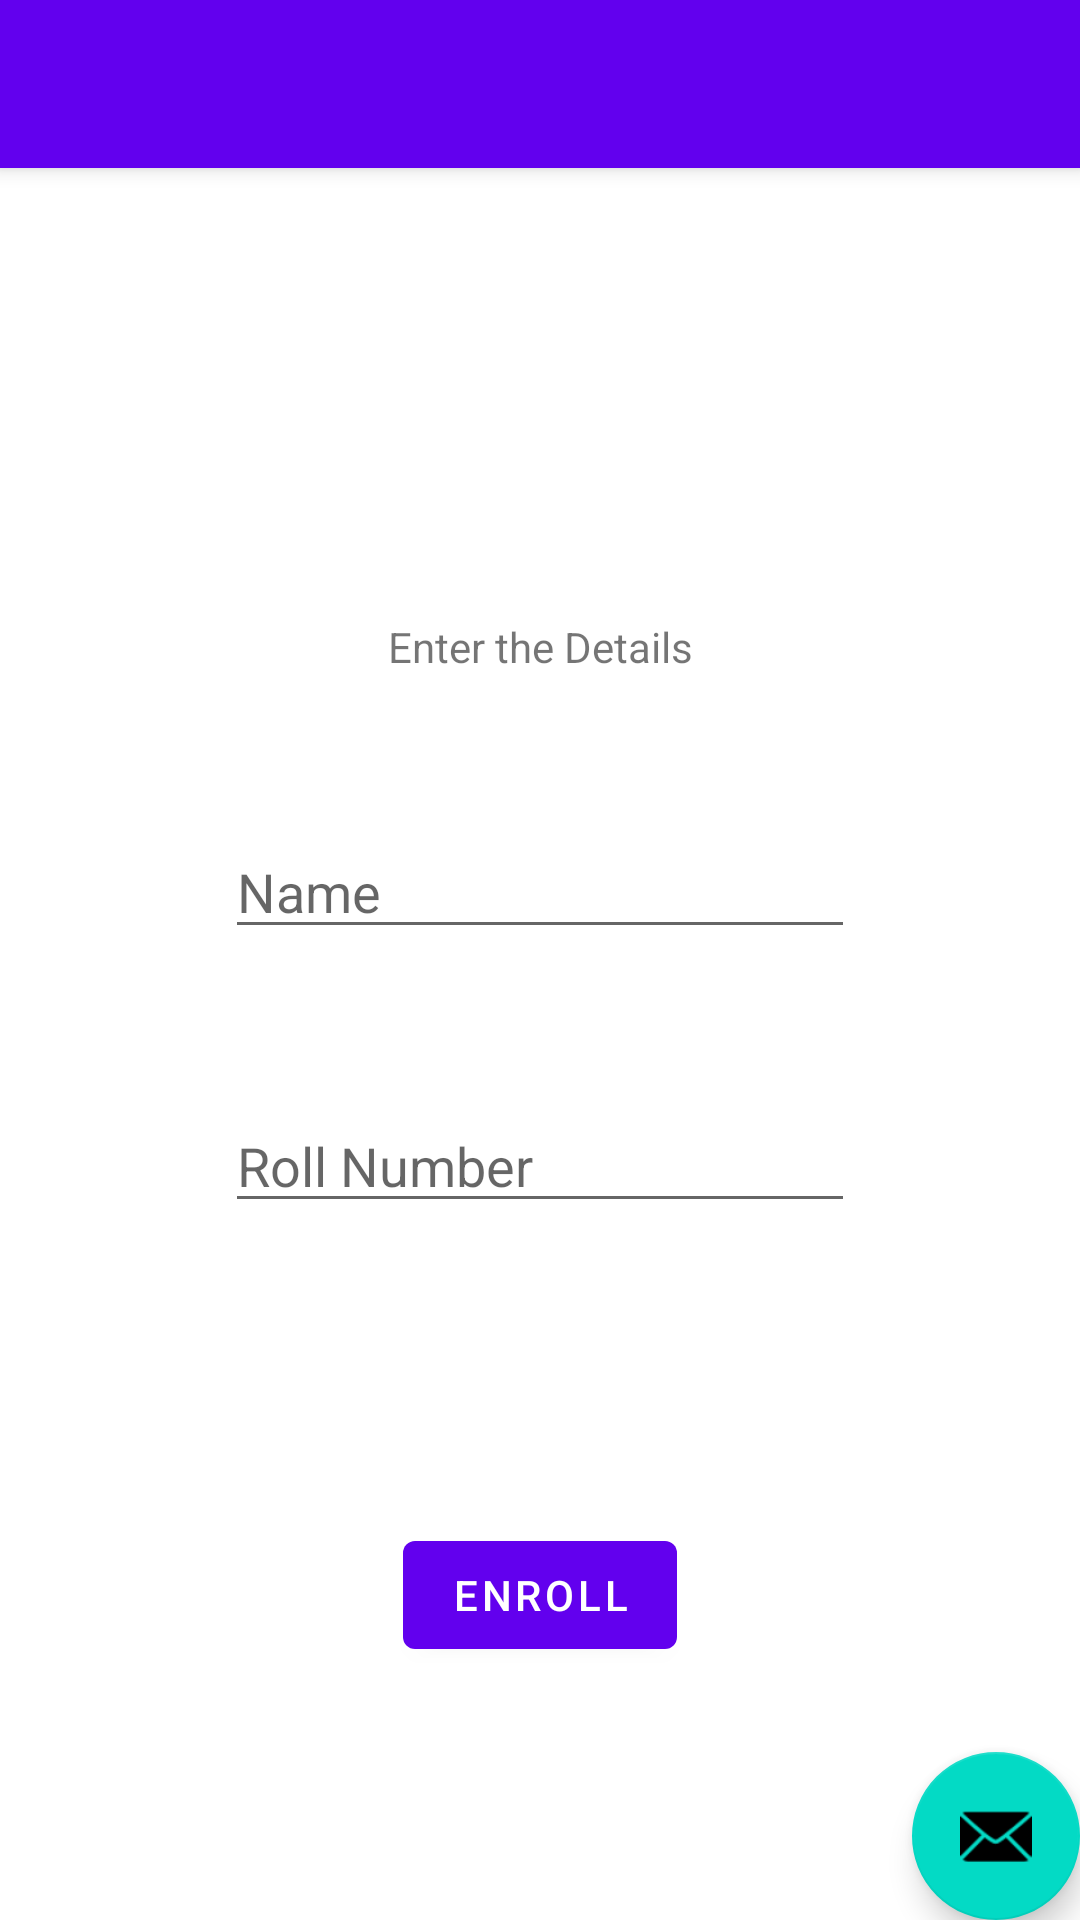

Where icons sit on this 1080w x 1920h app screen, as (x1, y1, x2, y2):
email: (912, 1752, 1080, 1920)
